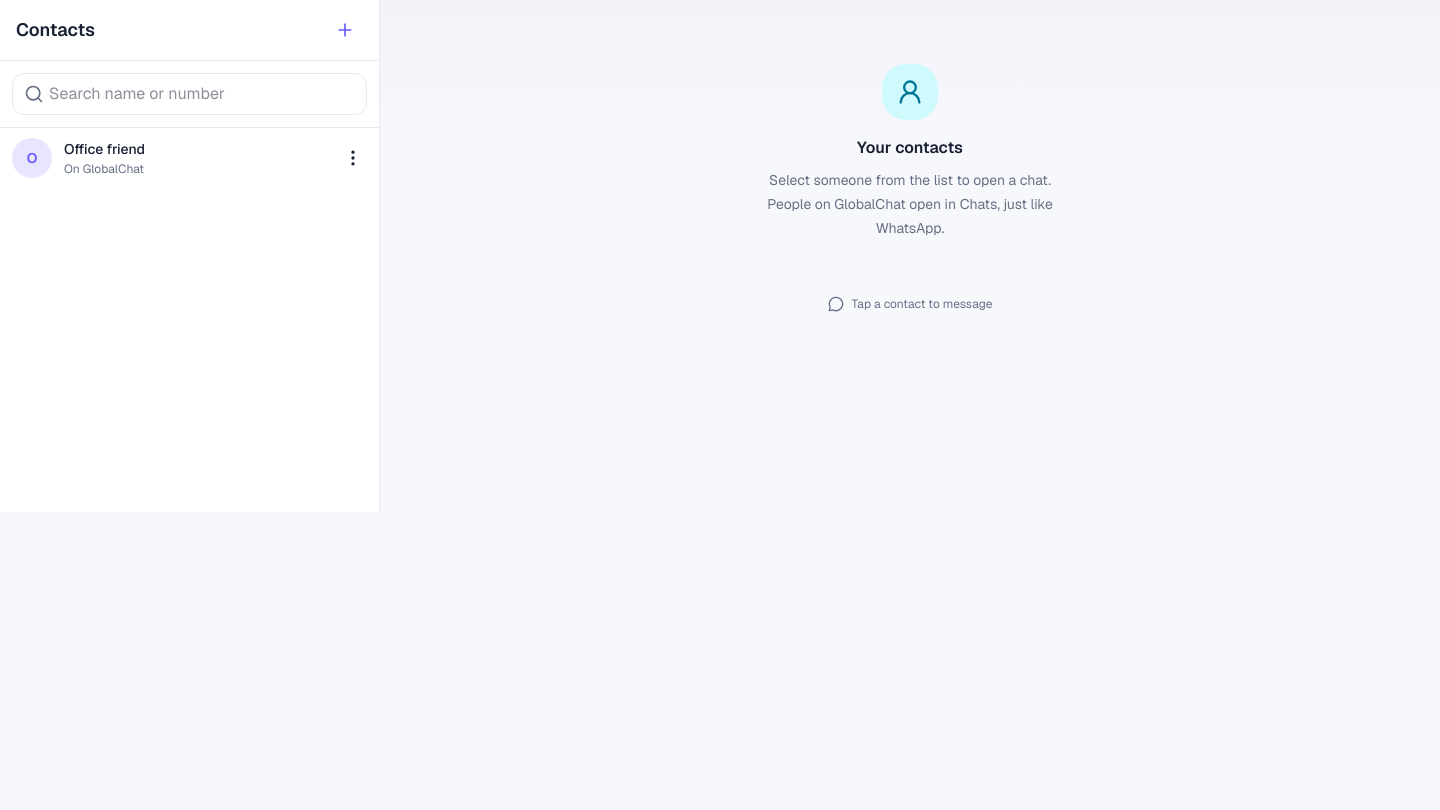
Test case: remove requires confirmation
What coordinates should you click on to do the following:
click the button named "More actions for Office friend"
I would click on:
 (353, 158)
Its box is [335, 140, 371, 176].
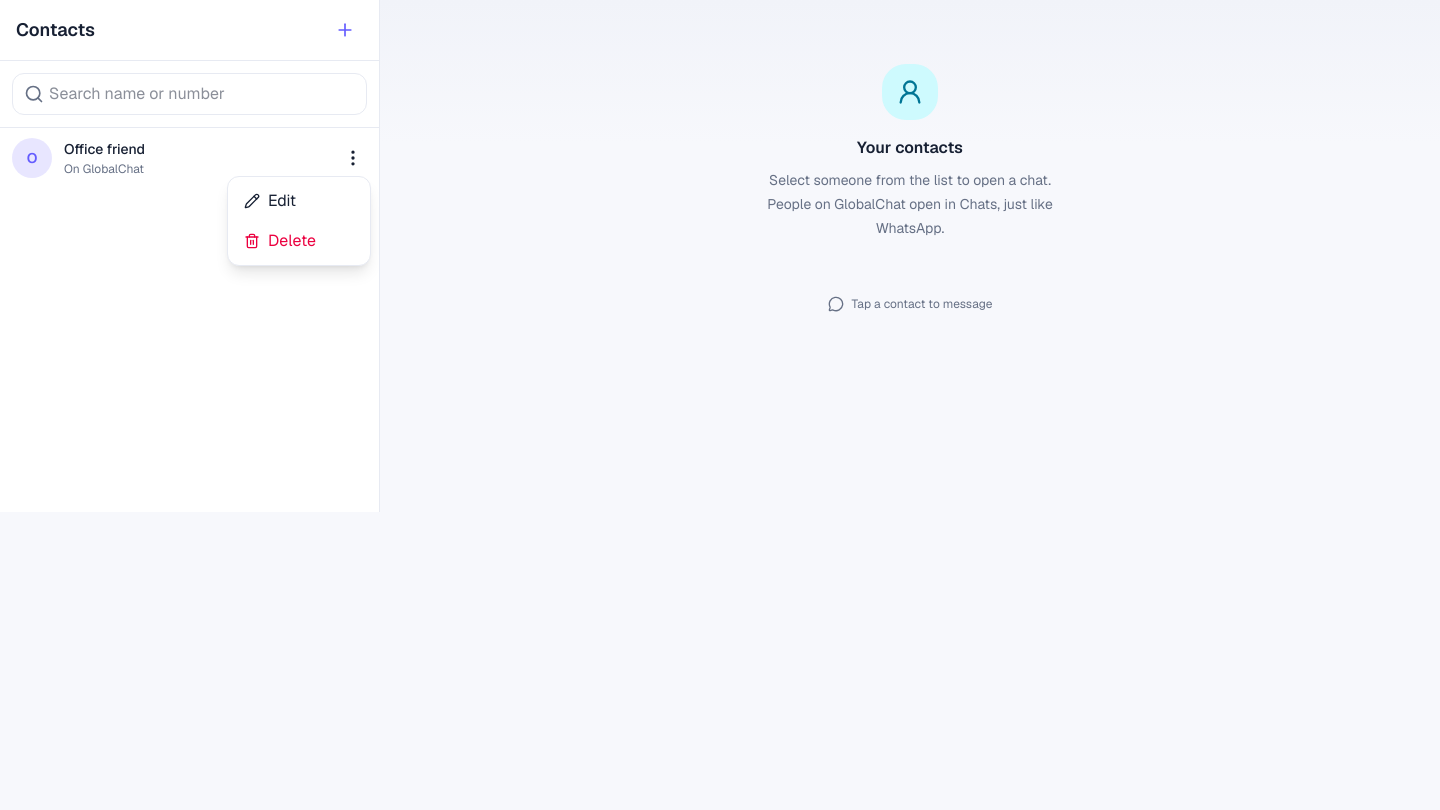
What coordinates should you click on to do the following:
click the menu item "Delete"
I would click on:
 (299, 241)
Its box is [232, 221, 366, 261].
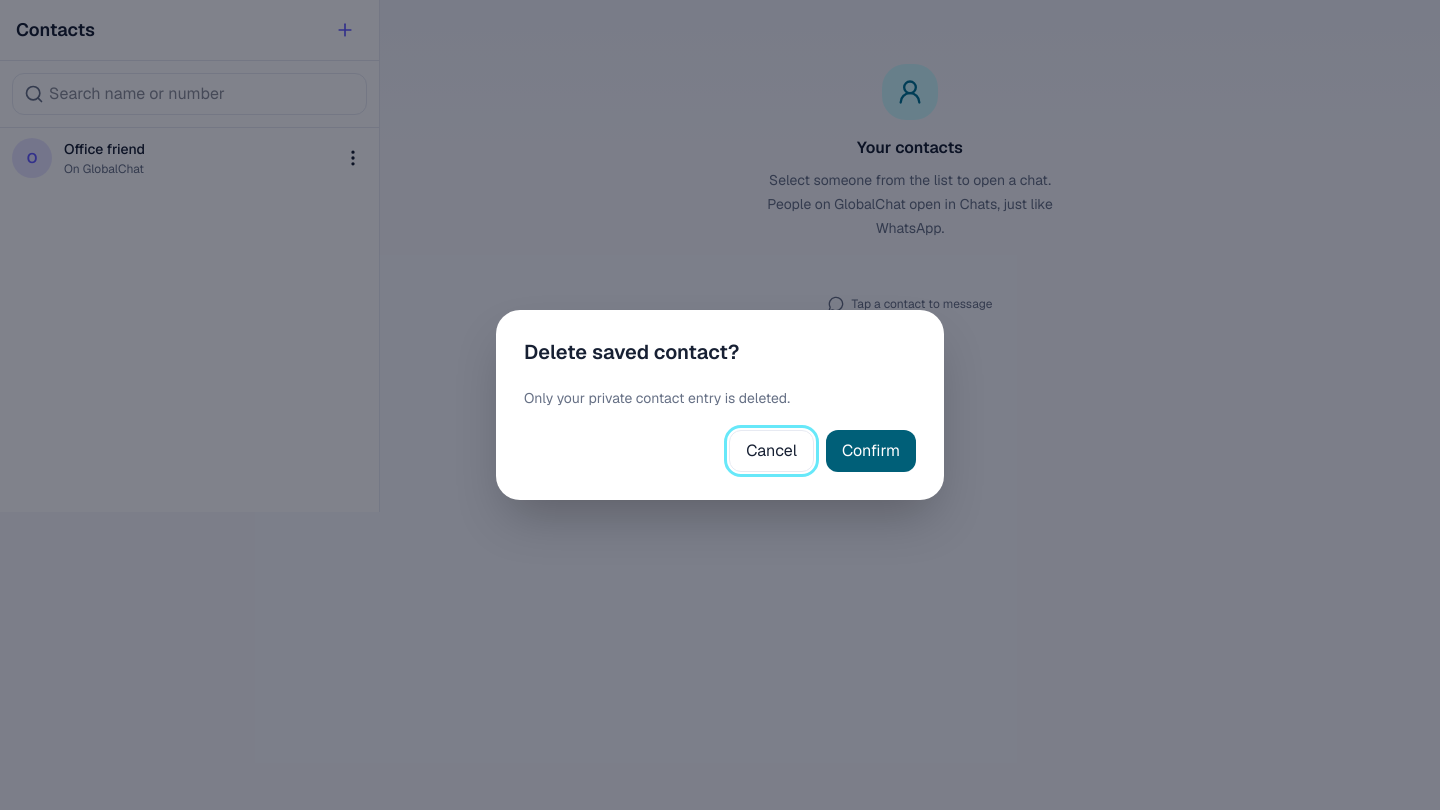
What coordinates should you click on to do the following:
click the button "Confirm"
I would click on:
 (871, 451)
Its box is [826, 430, 916, 472].
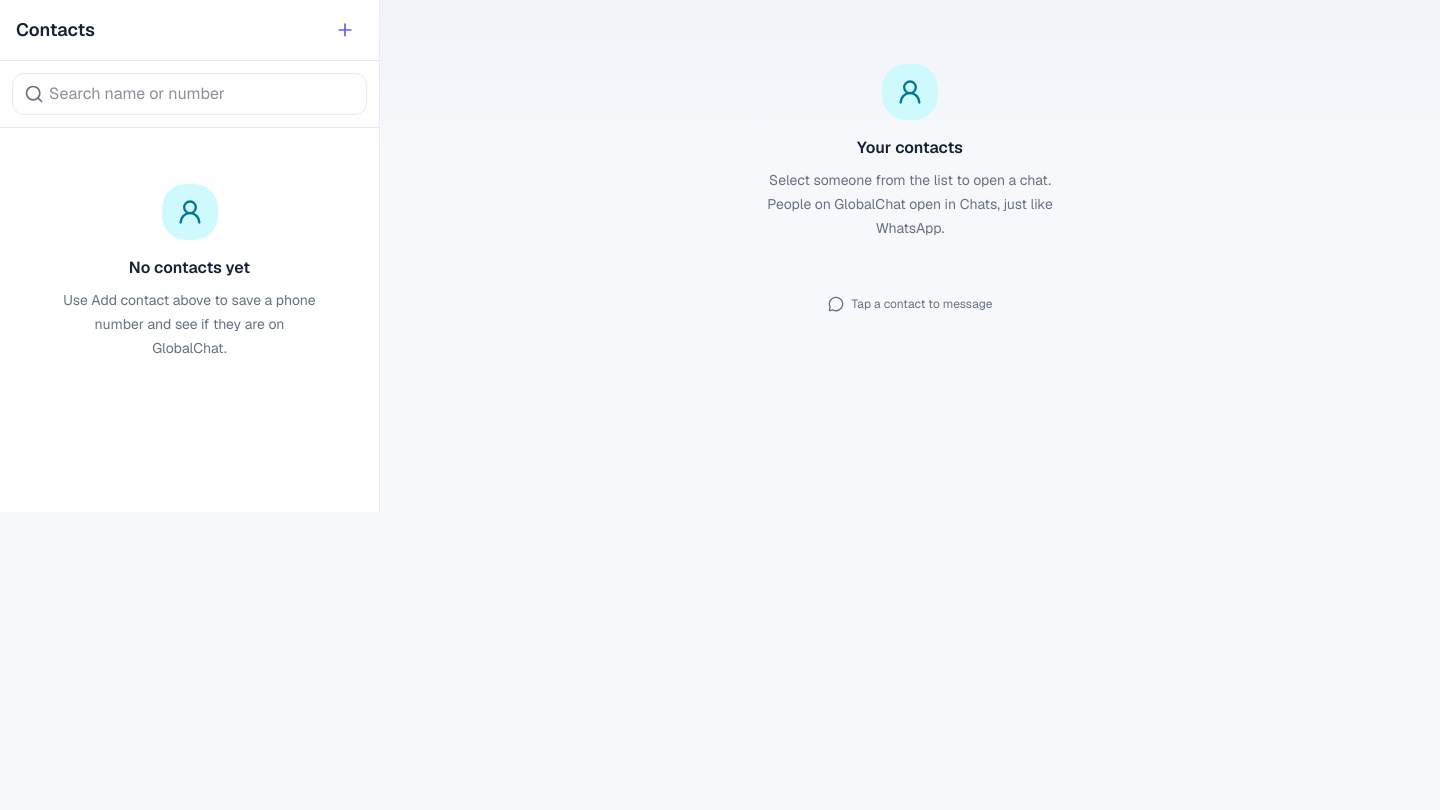
Expected: the text "No contacts yet" is shown, [129, 257, 250, 278]
